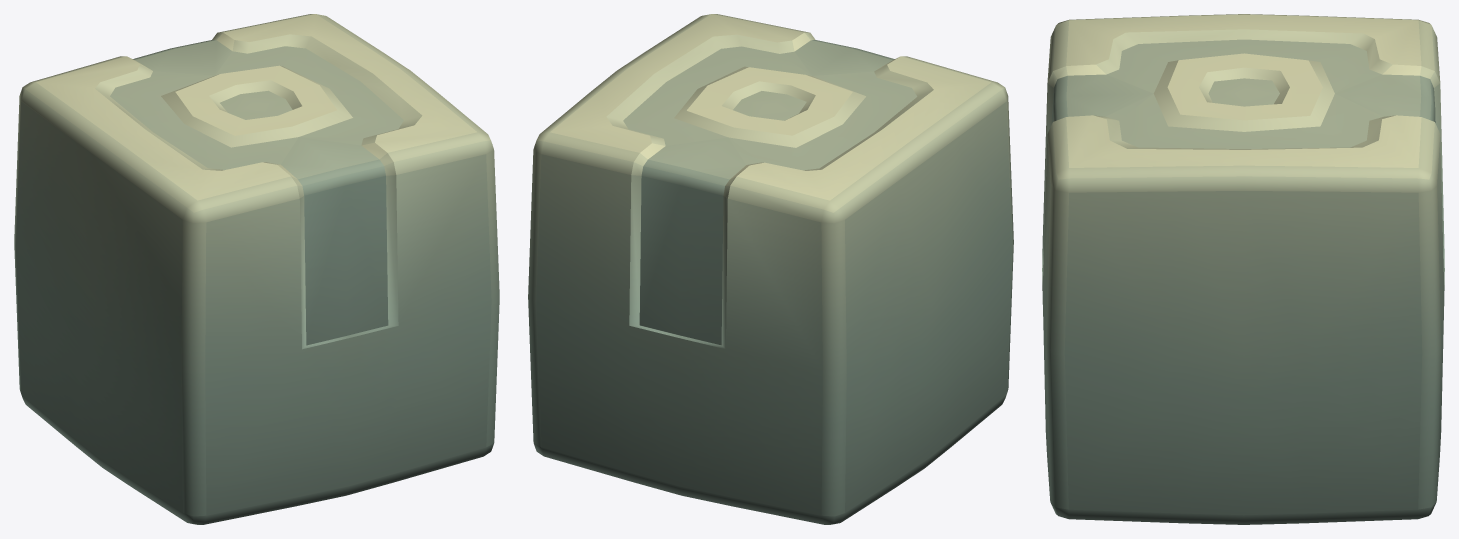
Rendered from Stone_Free2_Straight.fbx.
The picture shows the model from 3 angles, left to right: view 1: azimuth 30°, elevation 25°; view 2: azimuth 150°, elevation 25°; view 3: azimuth 270°, elevation 25°; orthographic projection. The views are drawn at different scales.
Parts seen in each view (by area): view 1: Stone_Free2_Straight_LOD0; view 2: Stone_Free2_Straight_LOD0; view 3: Stone_Free2_Straight_LOD0.
Boxes of the visible parts, x1,y1,x2,y2 form: Stone_Free2_Straight_LOD0: (14, 14, 499, 524); Stone_Free2_Straight_LOD0: (528, 14, 1013, 524); Stone_Free2_Straight_LOD0: (1042, 14, 1444, 524).
Size of what is drawn, in the model's own units: 1.09 by 1.09 by 1.09.
